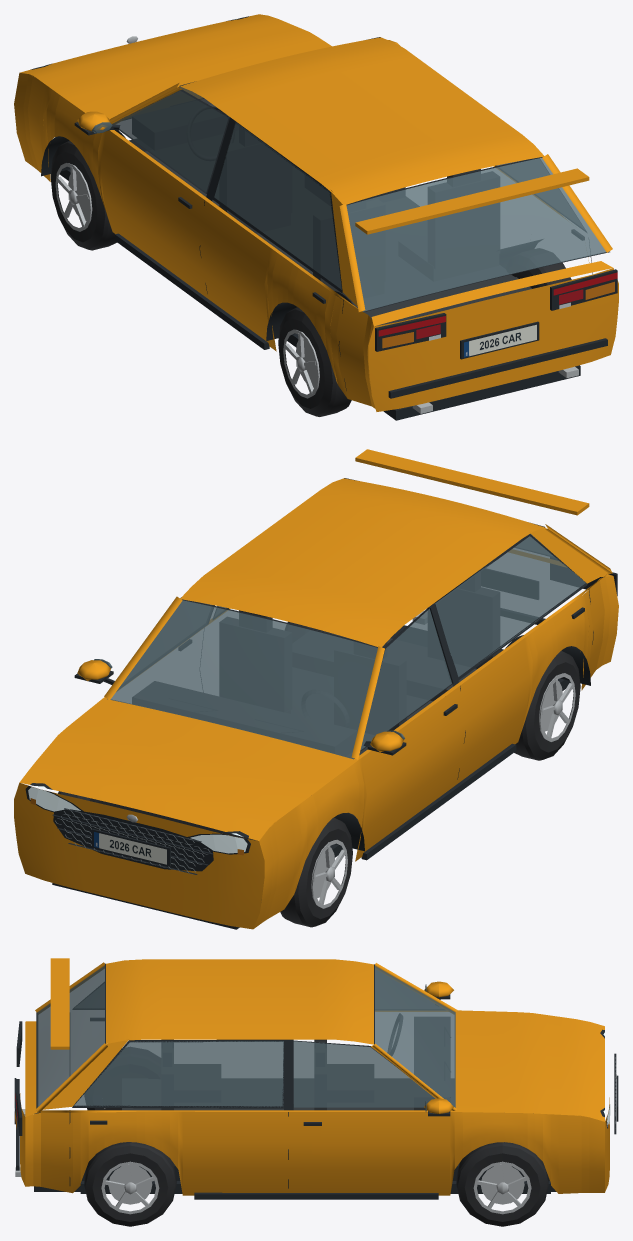
File: Entrega_12_LOD1.glb
3 renders of one model, top to bottom at view 1: azimuth 30°, elevation 25°; view 2: azimuth 150°, elevation 25°; view 3: azimuth 270°, elevation 25°, orthographic. The views are drawn at different scales.
Parts seen in each view (by area): view 1: Body, Glass, Interior, Wheel_RL, Wheel_FL, Wheel_RR, Plates, TailLights; view 2: Body, Glass, Interior, Wheel_FL, Wheel_RL, Headlights, Plates; view 3: Body, Glass, Interior, Wheel_RR, Wheel_FR, Wheel_RL.
Part boxes in pixels (left/top/right/bottom): Body: left=14, top=14, right=618, bottom=420; Glass: left=92, top=86, right=605, bottom=311; Interior: left=132, top=98, right=532, bottom=326; Wheel_RL: left=278, top=307, right=351, bottom=416; Wheel_FL: left=50, top=140, right=116, bottom=250; Wheel_RR: left=506, top=248, right=571, bottom=288; Plates: left=464, top=324, right=536, bottom=357; TailLights: left=378, top=272, right=617, bottom=336; Body: left=14, top=449, right=618, bottom=929; Glass: left=94, top=534, right=585, bottom=759; Interior: left=98, top=572, right=500, bottom=840; Wheel_FL: left=280, top=817, right=352, bottom=927; Wheel_RL: left=514, top=650, right=580, bottom=760; Headlights: left=28, top=786, right=247, bottom=853; Plates: left=94, top=832, right=166, bottom=864; Body: left=14, top=958, right=618, bottom=1199; Glass: left=37, top=965, right=455, bottom=1111; Interior: left=122, top=1014, right=459, bottom=1166; Wheel_RR: left=84, top=1142, right=176, bottom=1226; Wheel_FR: left=456, top=1142, right=548, bottom=1226; Wheel_RL: left=85, top=1047, right=160, bottom=1110.
Size of the model in its own units: 2.2 by 1.46 by 4.39.
14 materials, 1 textured.
